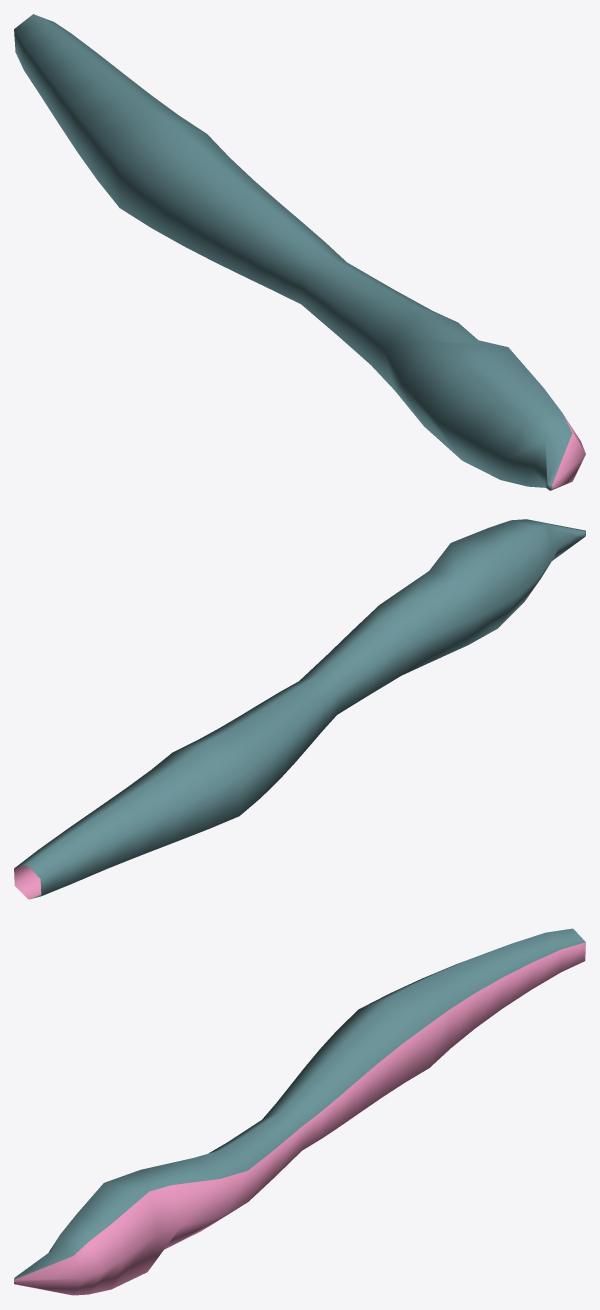
The model's file is SM_Tentacle_01.fbx.
The picture shows the model from 3 angles, top to bottom: view 1: azimuth 30°, elevation 25°; view 2: azimuth 150°, elevation 25°; view 3: azimuth 330°, elevation 25°; orthographic projection. The views are drawn at different scales.
Parts seen in each view (by area): view 1: SM_Tentacle_01; view 2: SM_Tentacle_01; view 3: SM_Tentacle_01.
Boxes of the visible parts, left/top/right/bottom form: SM_Tentacle_01: left=14, top=14, right=585, bottom=490; SM_Tentacle_01: left=14, top=519, right=585, bottom=899; SM_Tentacle_01: left=14, top=928, right=585, bottom=1295.
Bounding box in the file's own units: 122 × 13.98 × 11.9.
